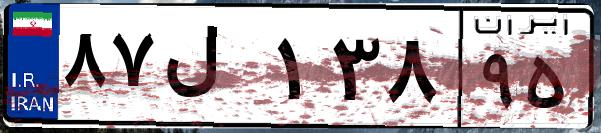1: (270, 28, 330, 110)
3: (330, 28, 385, 110)
5: (525, 38, 570, 115)
7: (110, 28, 158, 98)
8: (385, 28, 445, 110), (57, 26, 110, 100)
9: (475, 38, 525, 113)
ل: (158, 20, 270, 120)
